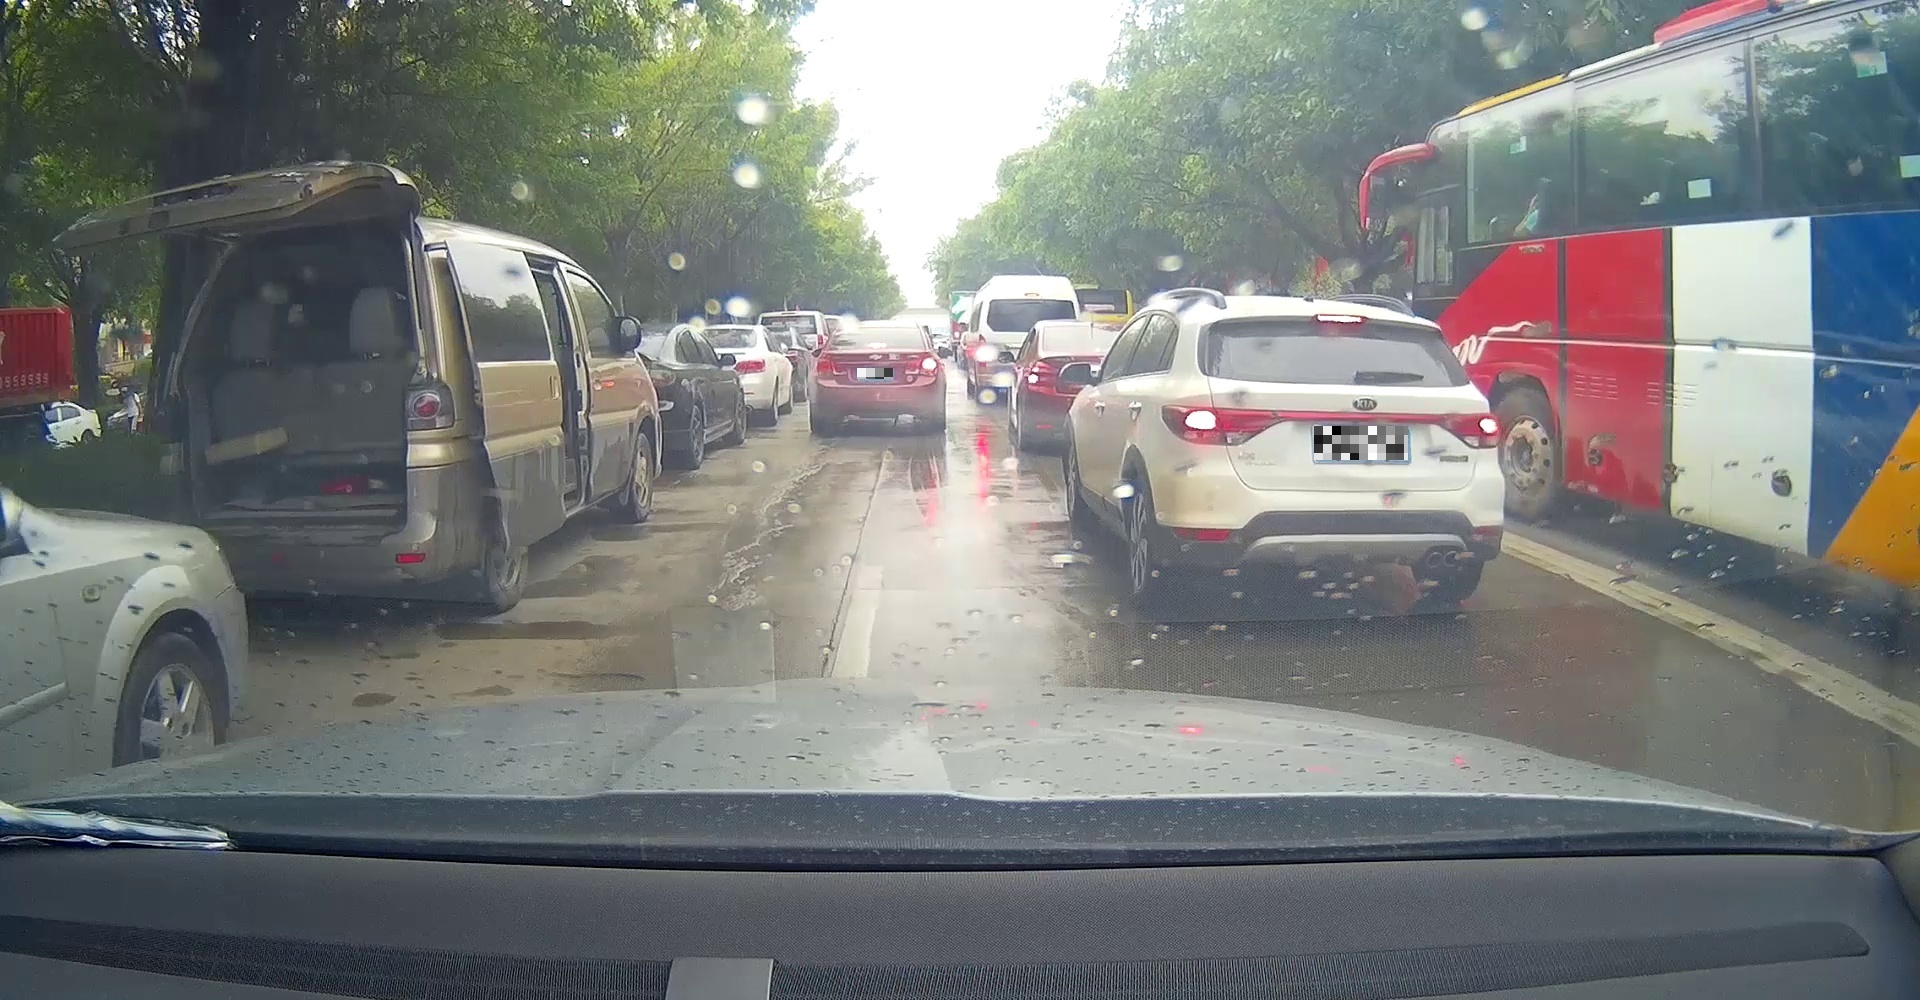L_light: (1159, 404, 1277, 445), (811, 357, 847, 374)
R_light: (1435, 411, 1501, 449), (904, 357, 938, 376)
T_light: (1316, 313, 1366, 324), (867, 343, 888, 346)
day-brake: (1153, 303, 1506, 609), (809, 322, 942, 435)
plate_1: (857, 368, 893, 379)
plate_2: (1314, 426, 1408, 459)
